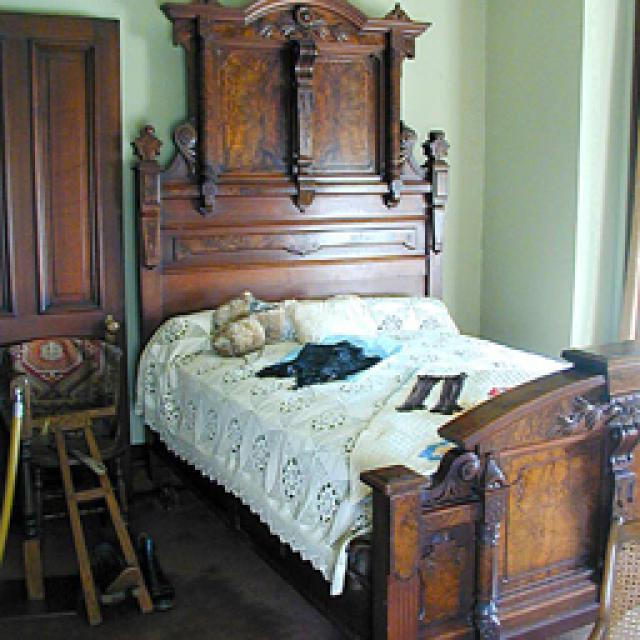bed -occluded-: (128, 122, 632, 635)
boot: (135, 530, 170, 605), (90, 540, 130, 600)
chair -occluded-: (0, 338, 148, 620)
cloth: (348, 365, 528, 498), (248, 330, 398, 388)
door bars: (0, 8, 132, 480)
pillow occluded: (285, 290, 385, 342)
sack: (210, 285, 290, 350)
